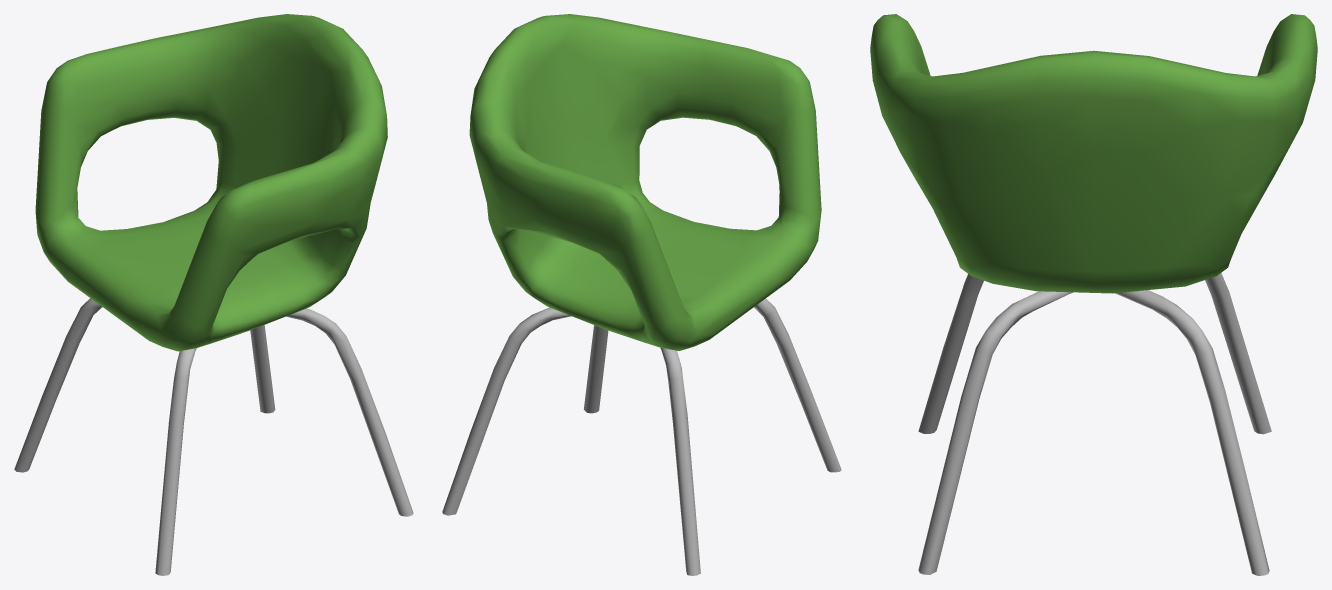
Rendered from chair_07_green.fbx.
3 renders of one model, left to right at view 1: azimuth 30°, elevation 25°; view 2: azimuth 150°, elevation 25°; view 3: azimuth 270°, elevation 25°, orthographic. The views are drawn at different scales.
Parts seen in each view (by area): view 1: chair_07_green; view 2: chair_07_green; view 3: chair_07_green.
Boxes of the visible parts, box(x1,y1,x2,y2) form: chair_07_green: box(14, 14, 413, 575); chair_07_green: box(442, 14, 841, 575); chair_07_green: box(870, 14, 1317, 575).
Bounding box in the file's own units: 51.53 × 81.16 × 63.67.
Materials: 2 (2 with a texture image).
